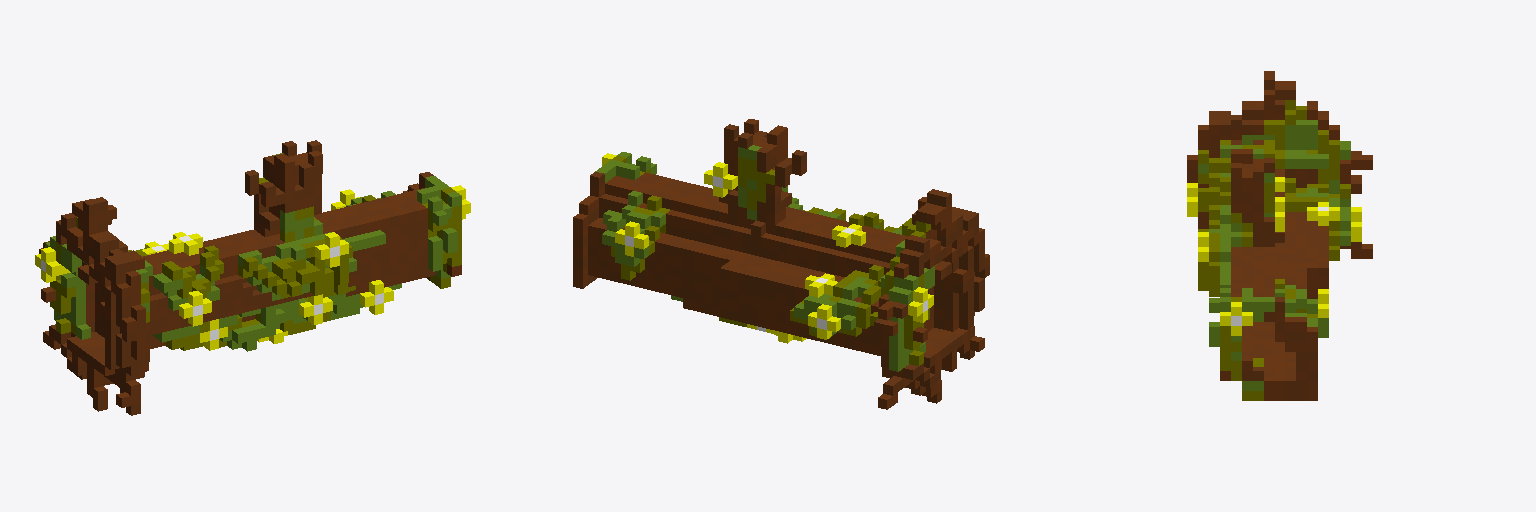
3 views of the same model, side by side, from view 1: azimuth 30°, elevation 25°; view 2: azimuth 150°, elevation 25°; view 3: azimuth 270°, elevation 25° (orthographic).
Visible parts, largest first — view 1: object 1; view 2: object 1; view 3: object 1.
Part boxes in pixels (x1,y1,x2,y2): object 1: (35, 140, 470, 415); object 1: (573, 119, 989, 409); object 1: (1187, 71, 1372, 400).
Size of the model in its own units: 3.9 by 2.2 by 1.7.
1 materials, 1 textured.